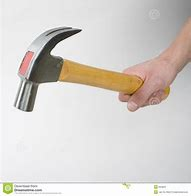hammer: (11, 23, 173, 115)
